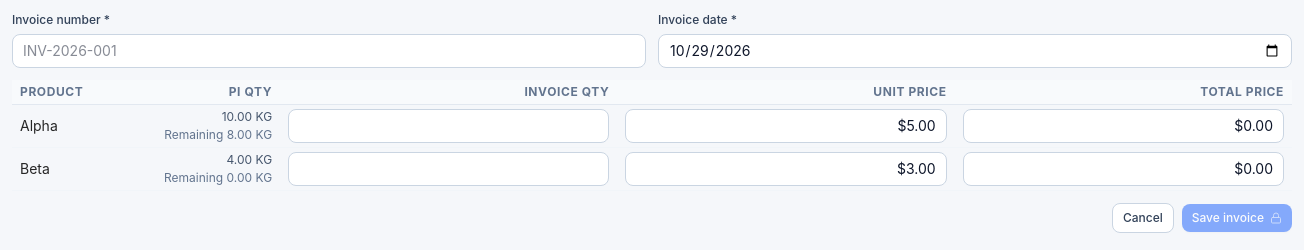
Test: InvoiceEditor — create mode › shows the live remaining under PI qty and no invoiced column
This screenshot has width=1304, height=250.
Expected: the text "Alpha" is shown, [12,104,117,148]
Expected: the column headings read "Product", "PI qty", "Invoice qty", "Unit price", "Total price", in this order, [12,80,117,104]; [117,80,280,104]; [280,80,618,104]; [617,80,955,104]; [955,80,1292,104]
Type "3" into the number field named "Invoice qty for Alpha". click: (449, 126)
box: [288,109,610,143]
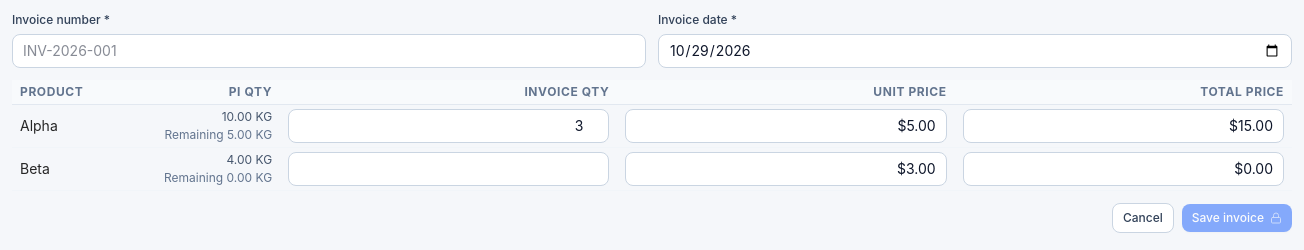
Expected: the text "Alpha" shows "Remaining 5.00 KG", [12,104,1292,148]
Clear the number field named "Invoice qty for Alpha". click: (449, 126)
box: [288,109,610,143]
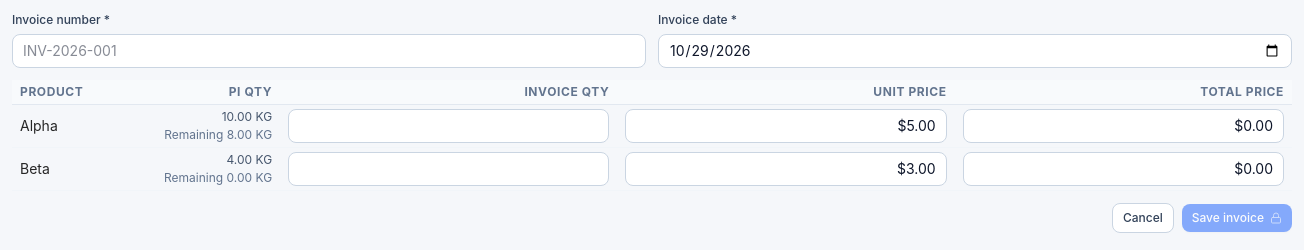
Expected: the text "Alpha" shows "Remaining 8.00 KG", [12,104,1292,148]
